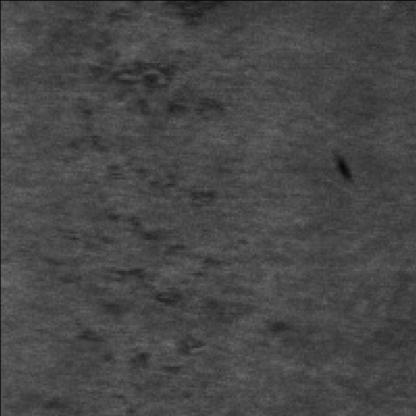rolled-in_scale: (54, 146, 244, 370), (79, 48, 245, 135)
